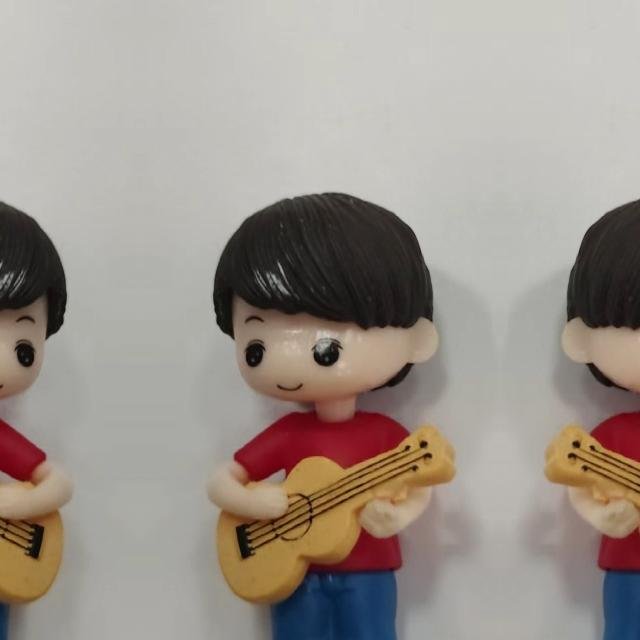man cloth: (238, 416, 420, 570), (579, 416, 640, 570), (0, 416, 42, 570)
man head: (208, 188, 444, 414), (556, 188, 640, 414), (0, 188, 72, 414)
trousers: (234, 576, 408, 640), (591, 576, 640, 640), (0, 576, 46, 640)
